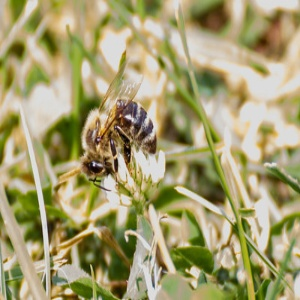bee: (81, 61, 158, 193)
